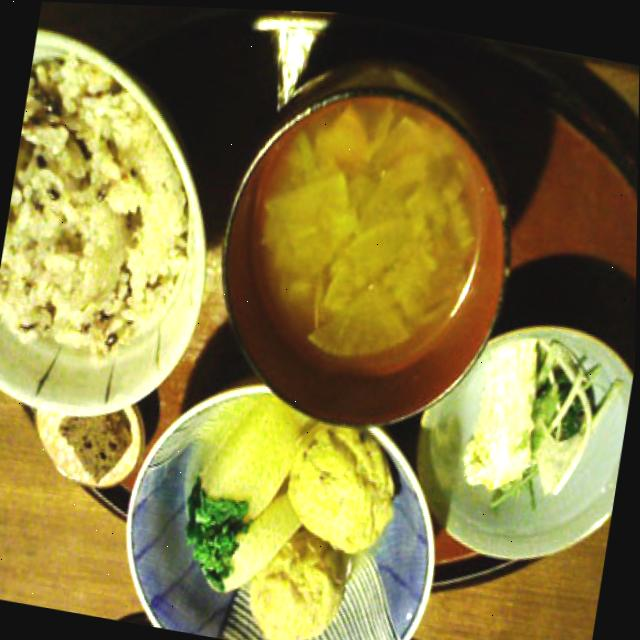熟制海鲜: (136, 380, 449, 640)
